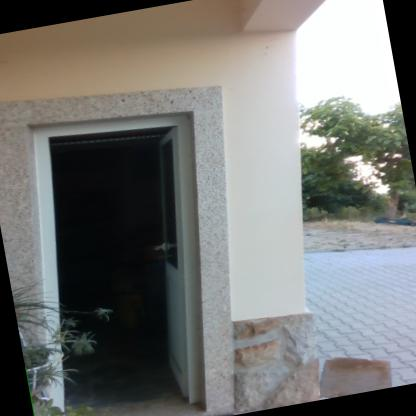open: (0, 89, 250, 415)
